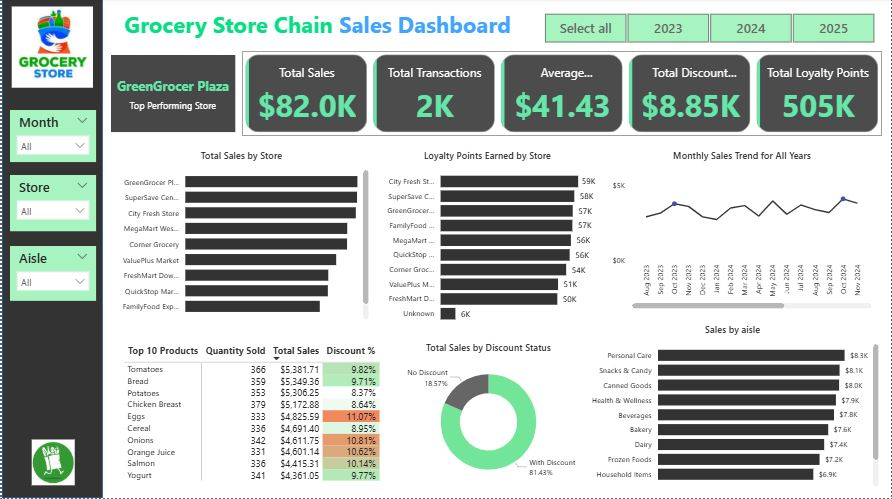

The page's visual inventory and layout, read from the dashboard file:
{"tool":"powerbi","page":{"name":"Grocery Store Chain Sales Dashboard","canvas":[1280,720],"ordinal":0},"visuals":[{"type":"cardVisual","fields":{"Data":["Measure.Total Sales","Measure.Total Transactions","Measure.Average Transaction Value","Measure.Total Discount Given","Measure.Total Loyalty Points"]},"box":[345.6,76.3,921.6,122.4],"z":0},{"type":"lineChart","fields":{"Y":["Measure.Total Sales"],"Category":["Sales.MonthYear"]},"box":[874.1,217.4,383,234.7],"z":1000},{"type":"clusteredBarChart","title":"Total Sales by Store","fields":{"Category":["Sales.store_name"],"Y":["Measure.Total Sales"]},"box":[157,217.4,375.8,250.6],"z":2000},{"type":"clusteredBarChart","title":" Sales by aisle","fields":{"Category":["Sales.aisle"],"Y":["Measure.Total Sales"]},"box":[836.6,468,430.6,240.5],"z":3000},{"type":"pivotTable","fields":{"Rows":["Sales.product_name"],"Values":["Measure.Total Quantity Sold","Measure.Total Sales","Measure.Discount Rate %"]},"box":[171.4,493.9,383,226.1],"z":4000},{"type":"clusteredBarChart","title":"Loyalty Points Earned by Store","fields":{"Category":["Sales.store_name"],"Y":["Measure.Total Loyalty Points"]},"box":[538.6,217.4,321.1,259.2],"z":5000},{"type":"shape","box":[0,0,145.4,720],"z":6000},{"type":"donutChart","title":"Total Sales by Discount Status","fields":{"Category":["Sales.Discount_Flag"],"Y":["Measure.Total Sales"]},"box":[564.5,493.9,272.2,216],"z":7000},{"type":"image","box":[0,7.2,145.4,126.7],"z":8000},{"type":"slicer","fields":{"Values":["Sales.Month Name"]},"box":[11.5,161.3,123.8,74.9],"z":9000},{"type":"slicer","fields":{"Values":["Sales.store_name"]},"box":[11.5,254.9,123.8,80.6],"z":10000},{"type":"slicer","fields":{"Values":["Sales.aisle"]},"box":[11.5,357.1,123.8,79.2],"z":11000},{"type":"textbox","box":[171.4,10.1,586.1,60.5],"z":12000},{"type":"card","fields":{"Values":["Measure.Top Performing Store"]},"box":[157,82.1,178.6,110.9],"z":14000},{"type":"image","box":[5.8,630.7,135.4,76.3],"z":15000},{"type":"slicer","fields":{"Values":["Sales.Year"]},"box":[756,15.8,524.2,54.7],"z":17001}]}

Visuals, with their boxes in screenshot pixels (x1, y1, x2, y2), scaled from the page's 1280x720 canvas onto the 892x499 screenshot:
cardVisual - Measure.Total Sales x Measure.Total Transactions: x1=241 y1=53 x2=883 y2=138
lineChart - Measure.Total Sales x Sales.MonthYear: x1=609 y1=151 x2=876 y2=313
"Total Sales by Store" clusteredBarChart: x1=109 y1=151 x2=371 y2=324
" Sales by aisle" clusteredBarChart: x1=583 y1=324 x2=883 y2=491
pivotTable - Sales.product_name x Measure.Total Quantity Sold: x1=119 y1=342 x2=386 y2=498
"Loyalty Points Earned by Store" clusteredBarChart: x1=375 y1=151 x2=599 y2=330
shape: x1=0 y1=0 x2=101 y2=498
"Total Sales by Discount Status" donutChart: x1=393 y1=342 x2=583 y2=492
image: x1=0 y1=5 x2=101 y2=93
slicer - Sales.Month Name: x1=8 y1=112 x2=94 y2=164
slicer - Sales.store_name: x1=8 y1=177 x2=94 y2=233
slicer - Sales.aisle: x1=8 y1=247 x2=94 y2=302
textbox: x1=119 y1=7 x2=528 y2=49
card - Measure.Top Performing Store: x1=109 y1=57 x2=234 y2=134
image: x1=4 y1=437 x2=98 y2=490
slicer - Sales.Year: x1=527 y1=11 x2=891 y2=49
